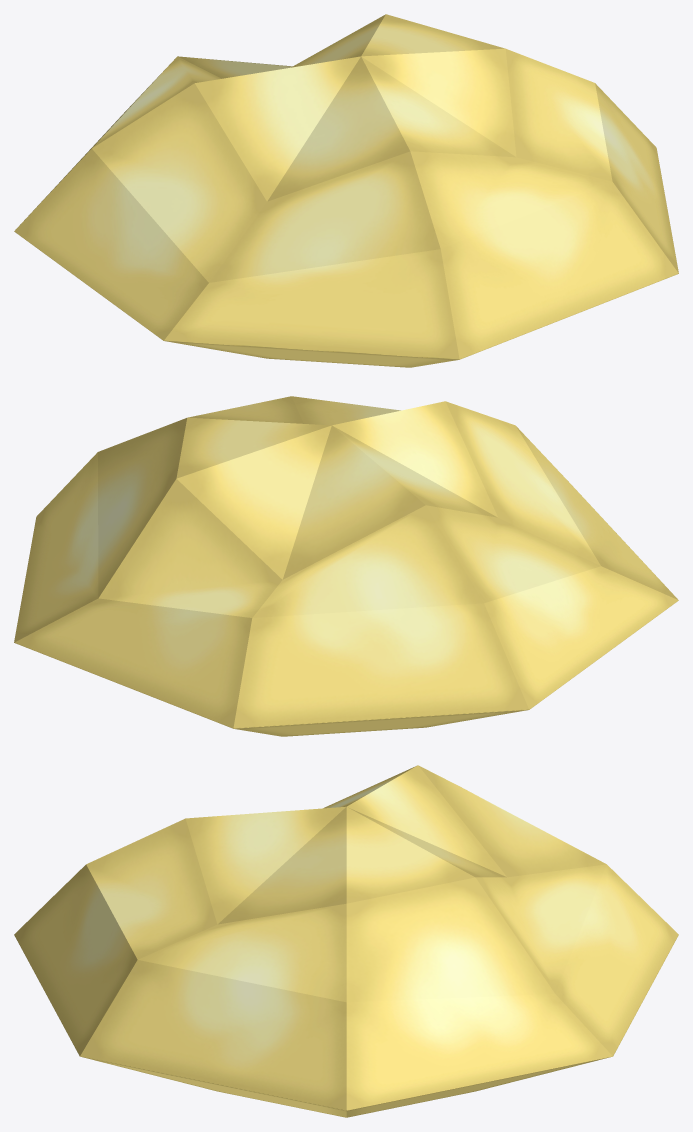
Rendered from PlatformCrystalMesh.fbx.
3 views of the same model, one above another, from view 1: azimuth 30°, elevation 25°; view 2: azimuth 150°, elevation 25°; view 3: azimuth 270°, elevation 25° (orthographic).
Visible parts, largest first — view 1: CrystalMesh; view 2: CrystalMesh; view 3: CrystalMesh.
Part boxes in pixels (bbox=[...]): CrystalMesh: bbox=[14, 14, 678, 367]; CrystalMesh: bbox=[14, 396, 678, 736]; CrystalMesh: bbox=[14, 765, 678, 1117].
Size of the model in its own units: 0.0118 by 0.00548 by 0.0121.
1 material, 1 textured.
